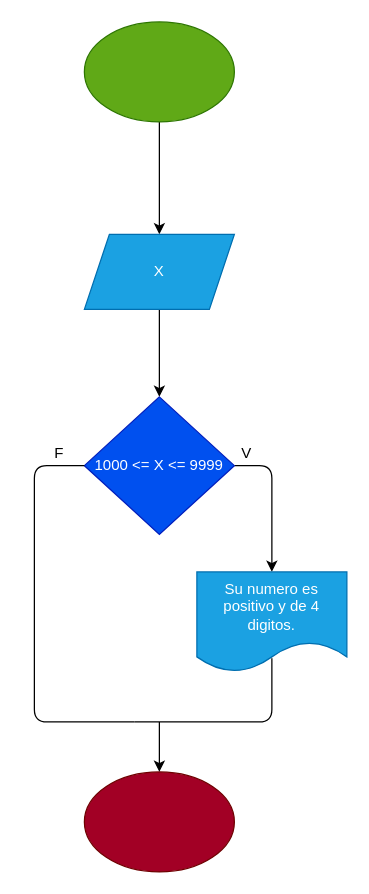
The diagram is 369 pixels wide and 894 high, and some of its shapes have lost their labels. The shapes that lost their labels are listed below. From the top down, each one's centre as x and y in pixels, then its label:
the point at 158,71: INICIO
the point at 158,821: FIN
